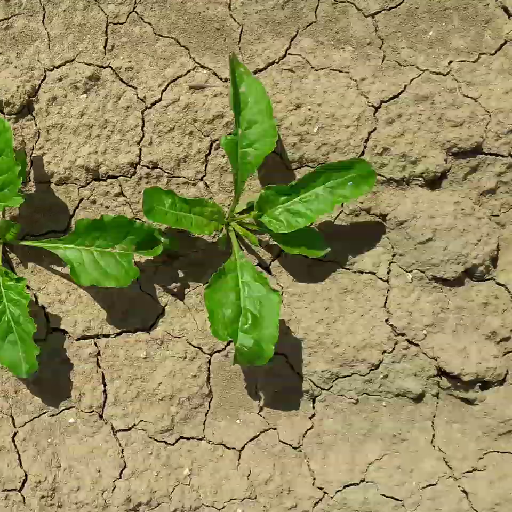sugarbeet: (138, 50, 379, 376), (1, 106, 162, 380)
